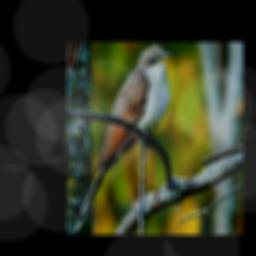Cuckoo: (73, 44, 171, 235)
